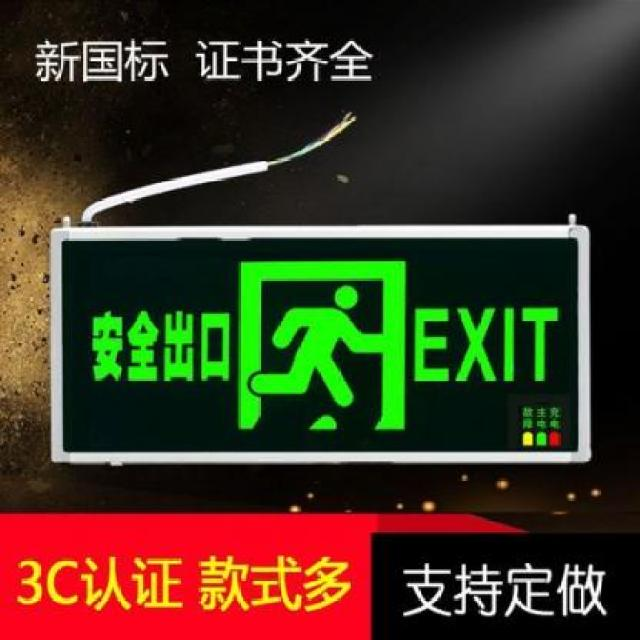exit_sign: (43, 228, 592, 468)
